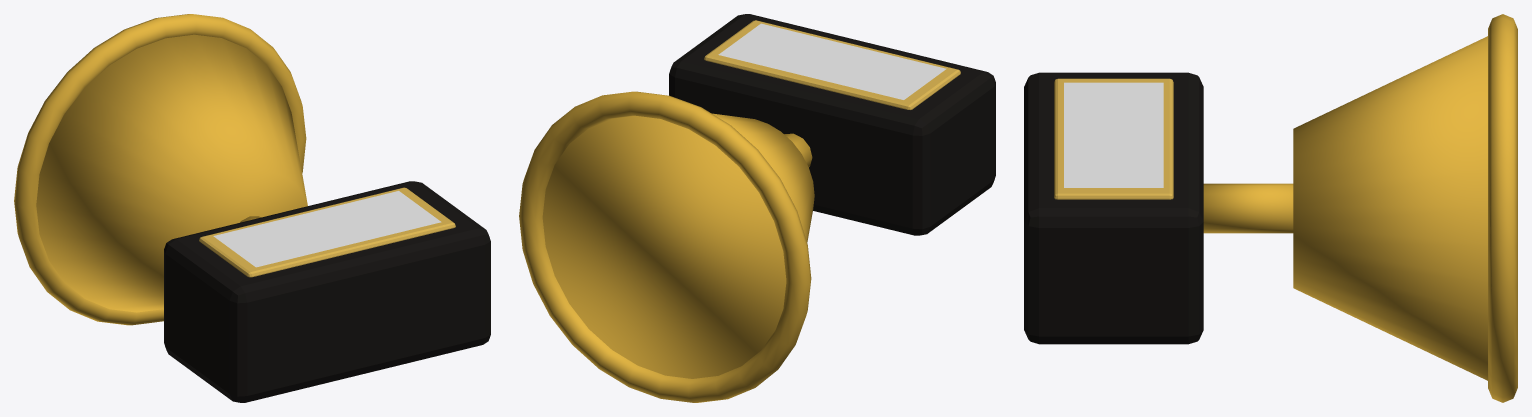
Rendered from kc_trofeu.glb.
3 views of the same model, side by side, from view 1: azimuth 30°, elevation 25°; view 2: azimuth 150°, elevation 25°; view 3: azimuth 270°, elevation 25° (orthographic). The views are drawn at different scales.
Visible parts, largest first — view 1: Cone, Cube, Torus.011, screen, Cube.001; view 2: Cone, Cube, Torus.011, screen, Cube.001; view 3: Cone, Cube, Torus.011, screen, Cylinder, Cube.001.
Part boxes in pixels (x1,y1,x2,y2): Cone: (36, 34, 307, 312); Cube: (164, 181, 490, 402); Torus.011: (14, 14, 306, 325); screen: (213, 191, 441, 267); Cube.001: (199, 187, 455, 277); Cone: (542, 113, 814, 378); Cube: (669, 14, 995, 235); Torus.011: (519, 91, 811, 402); screen: (718, 23, 946, 99); Cube.001: (704, 20, 960, 109); Cone: (1293, 36, 1487, 380); Cube: (1024, 72, 1203, 344); Torus.011: (1488, 14, 1517, 402); screen: (1064, 82, 1163, 187); Cylinder: (1203, 183, 1293, 233); Cube.001: (1054, 78, 1173, 199).
Bounding box in the file's own units: 0.78 × 0.78 × 0.99.
